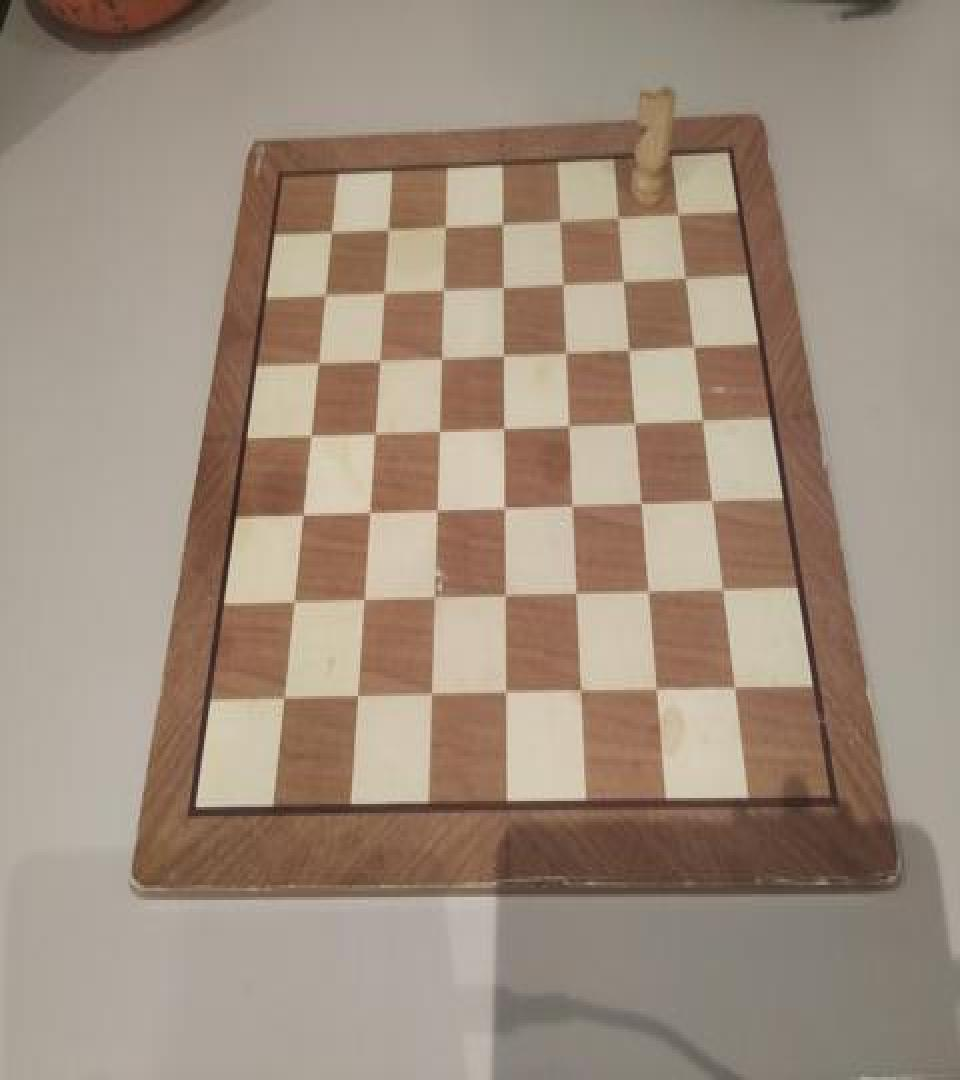xcorner: (314, 280, 334, 311), (274, 692, 294, 722), (349, 690, 369, 720), (423, 687, 443, 717), (498, 686, 518, 716), (574, 684, 594, 714), (650, 681, 670, 711), (727, 680, 747, 710), (284, 594, 304, 624), (355, 591, 375, 621), (426, 590, 446, 620), (497, 588, 517, 618), (569, 585, 589, 615), (642, 584, 662, 614), (292, 506, 312, 536), (360, 502, 380, 532), (428, 501, 448, 531), (497, 498, 517, 528), (565, 496, 585, 526), (635, 494, 655, 524), (704, 492, 724, 522), (300, 423, 320, 453), (365, 422, 385, 452), (430, 418, 450, 448), (496, 417, 516, 447), (562, 414, 582, 444), (628, 411, 648, 441), (695, 410, 715, 440), (307, 350, 327, 380), (369, 346, 389, 376), (432, 344, 452, 374), (495, 342, 515, 372), (558, 339, 578, 369), (622, 336, 642, 366), (686, 334, 706, 364), (374, 278, 394, 308), (434, 274, 454, 304), (494, 273, 514, 303), (555, 270, 575, 300), (616, 267, 636, 297), (678, 264, 698, 294), (320, 216, 340, 246), (377, 213, 397, 243), (435, 212, 455, 242), (494, 208, 514, 238), (552, 206, 572, 236), (611, 202, 631, 232), (670, 201, 690, 231), (715, 581, 735, 610)
